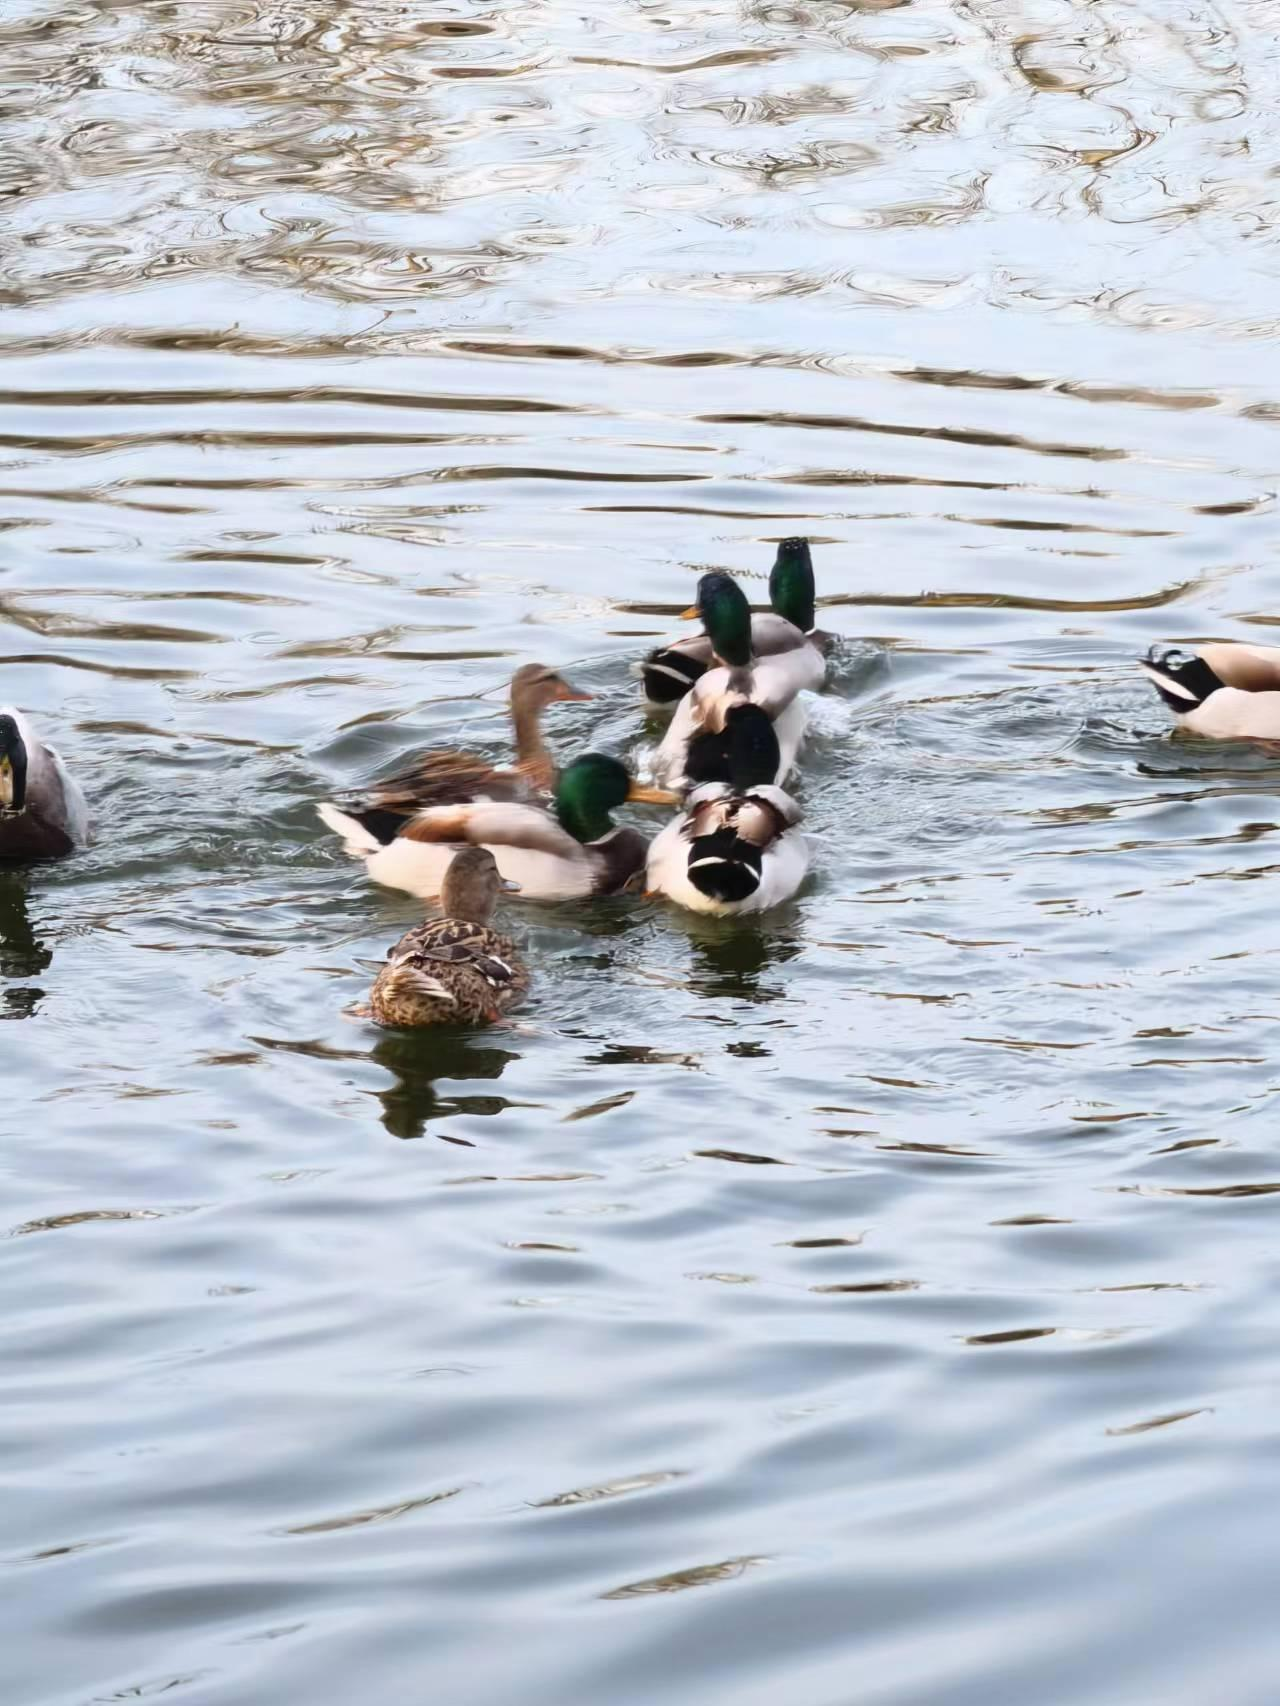duck: (315, 754, 682, 901), (354, 648, 614, 813), (652, 708, 813, 924), (355, 844, 531, 1037), (639, 528, 826, 702), (671, 573, 792, 785)
